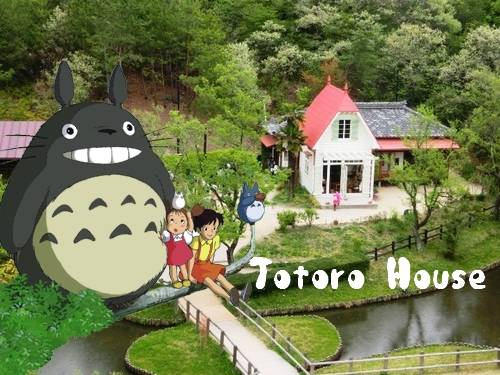Totoro: (1, 56, 180, 310)
